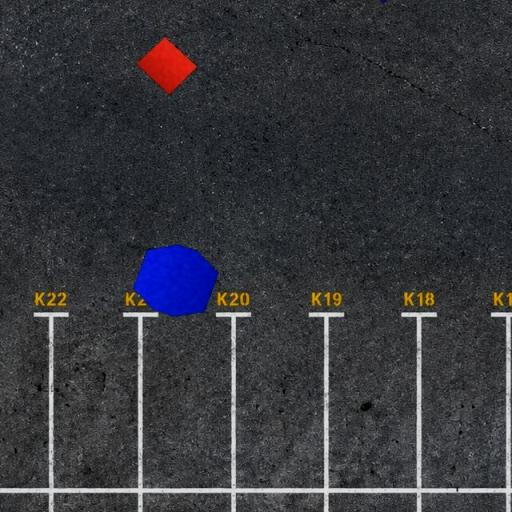RED_SQUARE: (136, 37, 198, 96)
